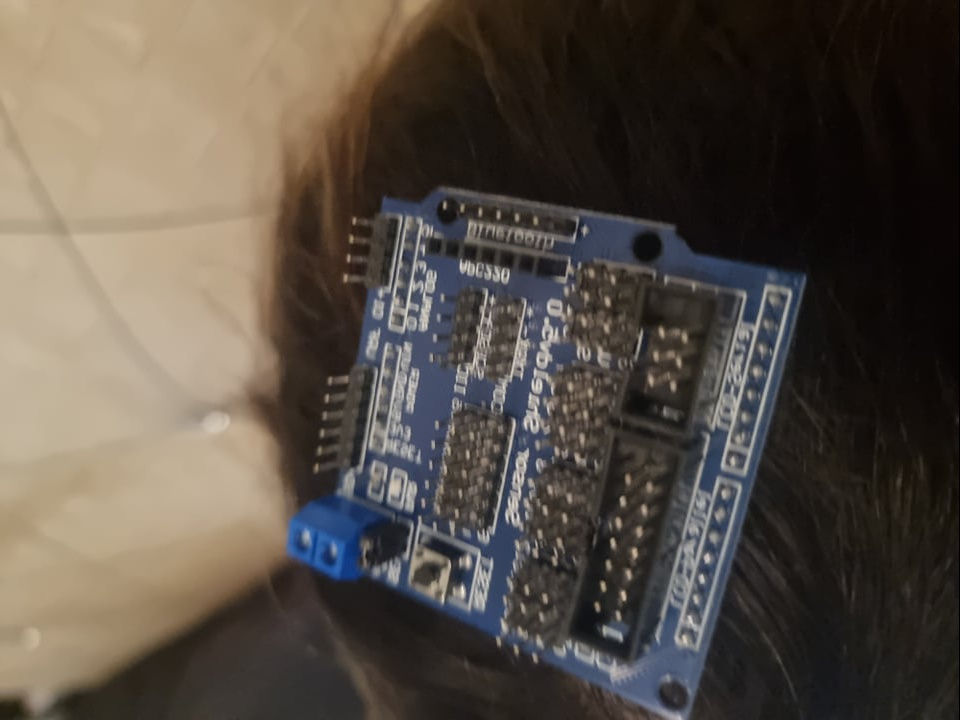5V EXPANSION: (287, 188, 811, 720)
